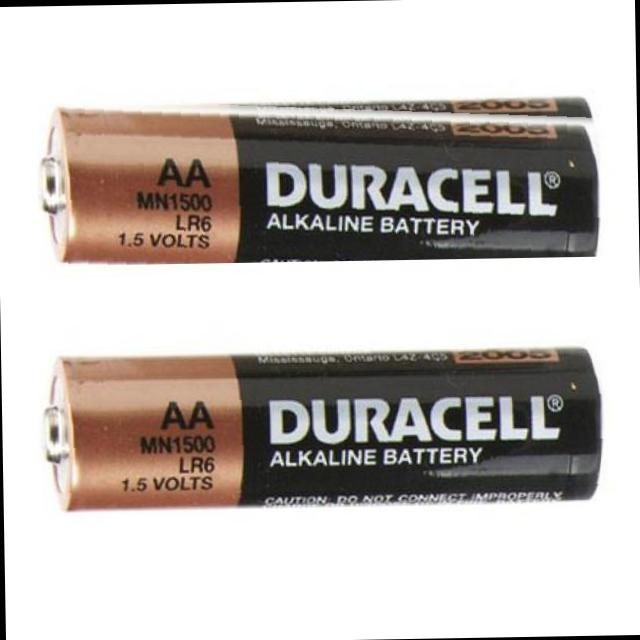Hazard: (36, 87, 605, 265), (36, 340, 612, 515)
